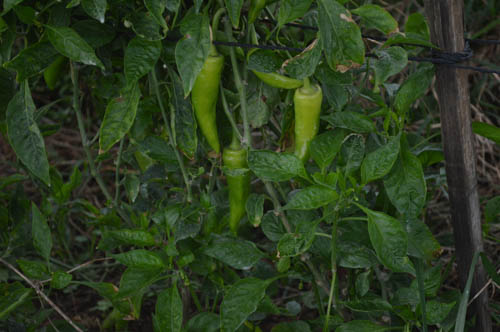ChiliPepper: (189, 58, 224, 151), (292, 87, 324, 154), (224, 150, 247, 226)
